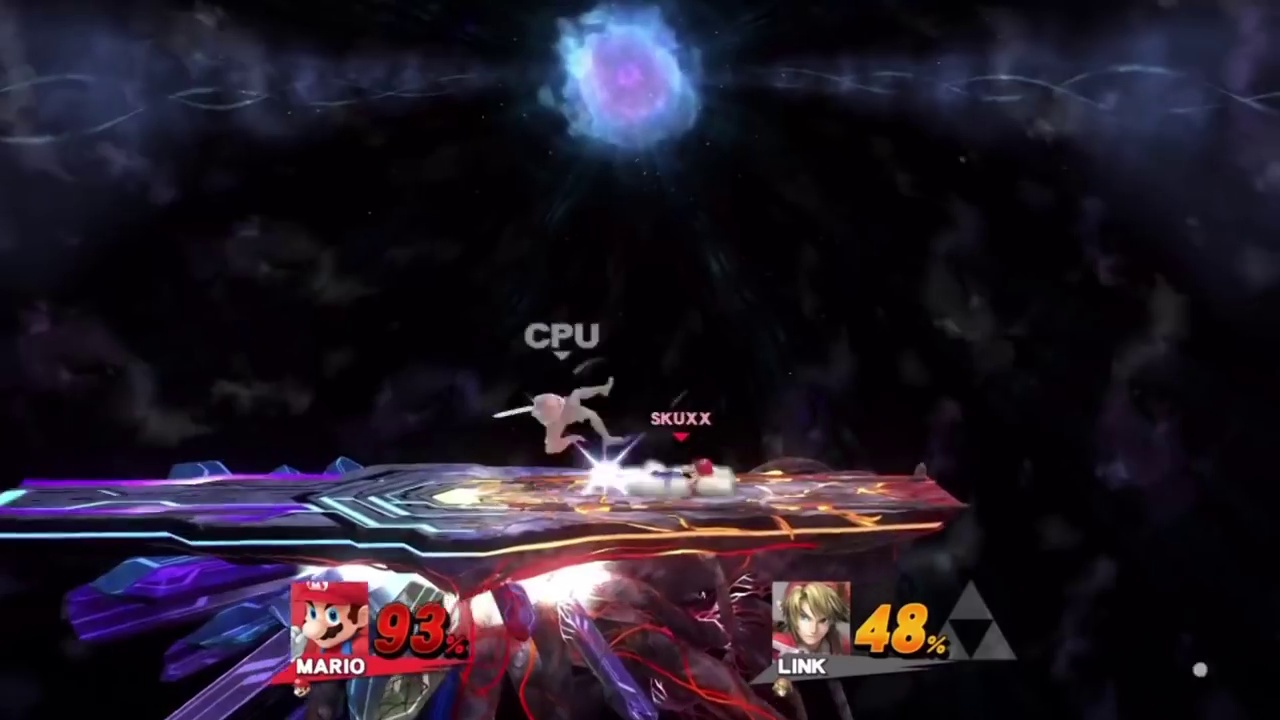Mario: (644, 460, 714, 483)
